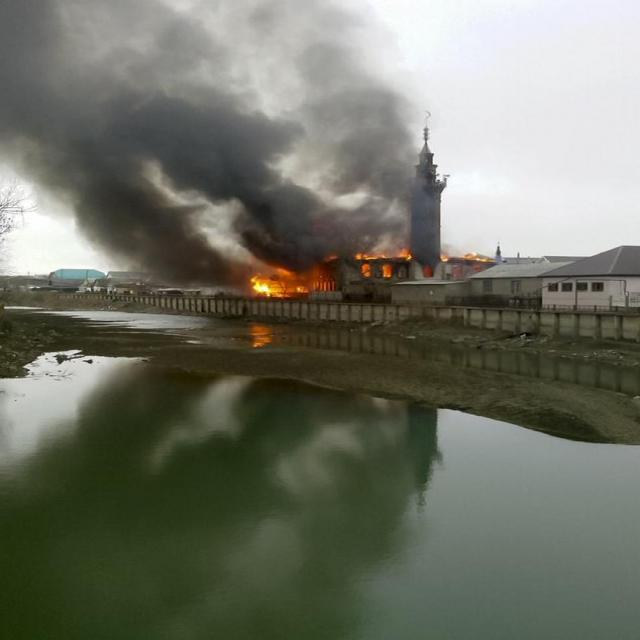fire: (247, 245, 434, 301)
